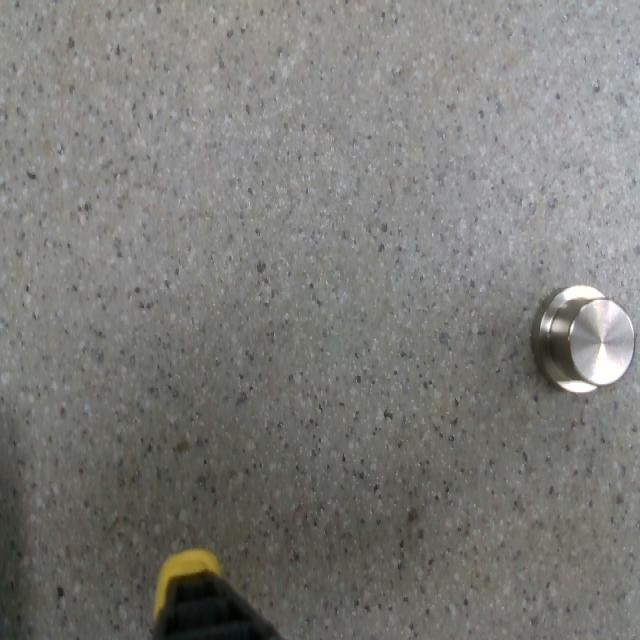sensor: (528, 283, 634, 393)
